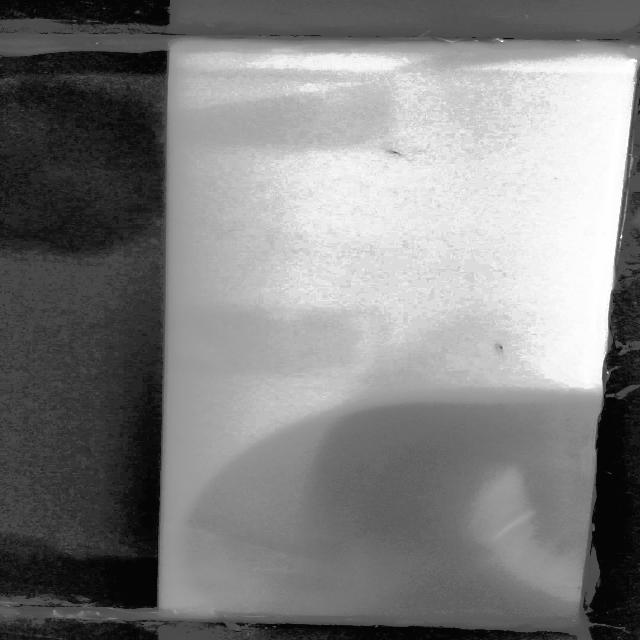shrimp: (488, 342, 514, 358), (383, 147, 410, 159)
